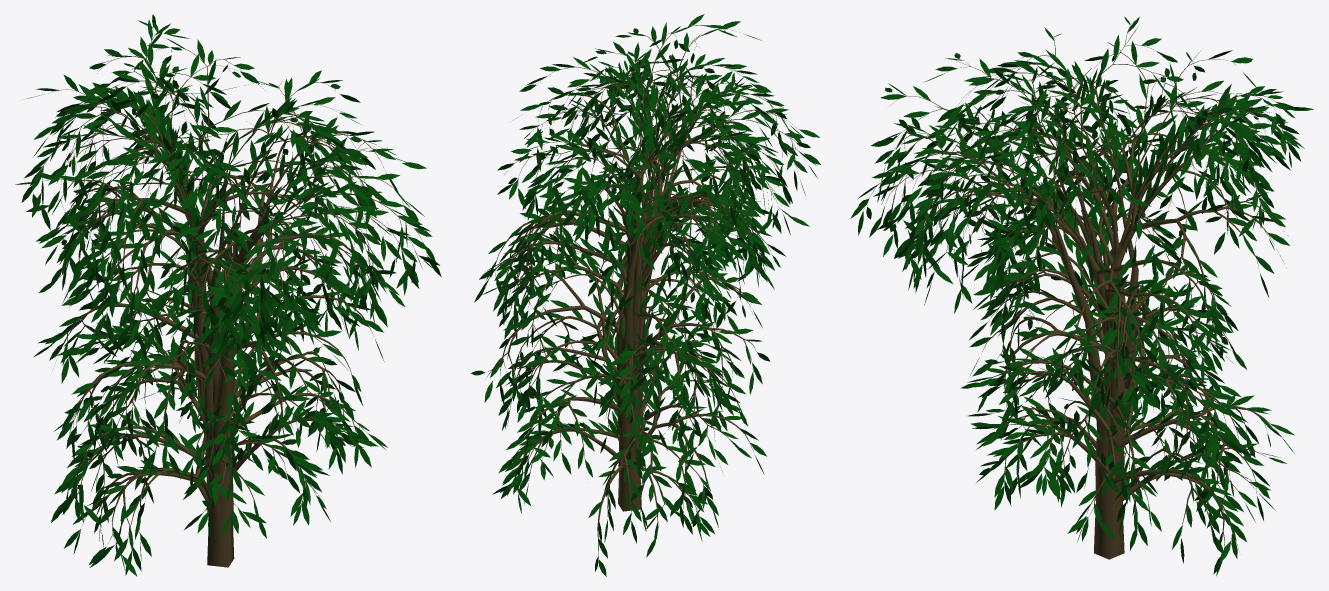
Rendered from willow_1.glb.
The picture shows the model from 3 angles, left to right: view 1: azimuth 30°, elevation 25°; view 2: azimuth 150°, elevation 25°; view 3: azimuth 270°, elevation 25°; orthographic projection. The views are drawn at different scales.
Visible parts, largest first — view 1: leaves, tree; view 2: leaves, tree; view 3: leaves, tree.
Boxes of the visible parts, <box> form: leaves: <box>15,14,441,576</box>; tree: <box>39,34,425,567</box>; leaves: <box>471,14,820,576</box>; tree: <box>486,25,805,558</box>; leaves: <box>850,16,1313,575</box>; tree: <box>864,25,1287,559</box>.
Size of the model in its own units: 14.27 by 21.08 by 16.71.
